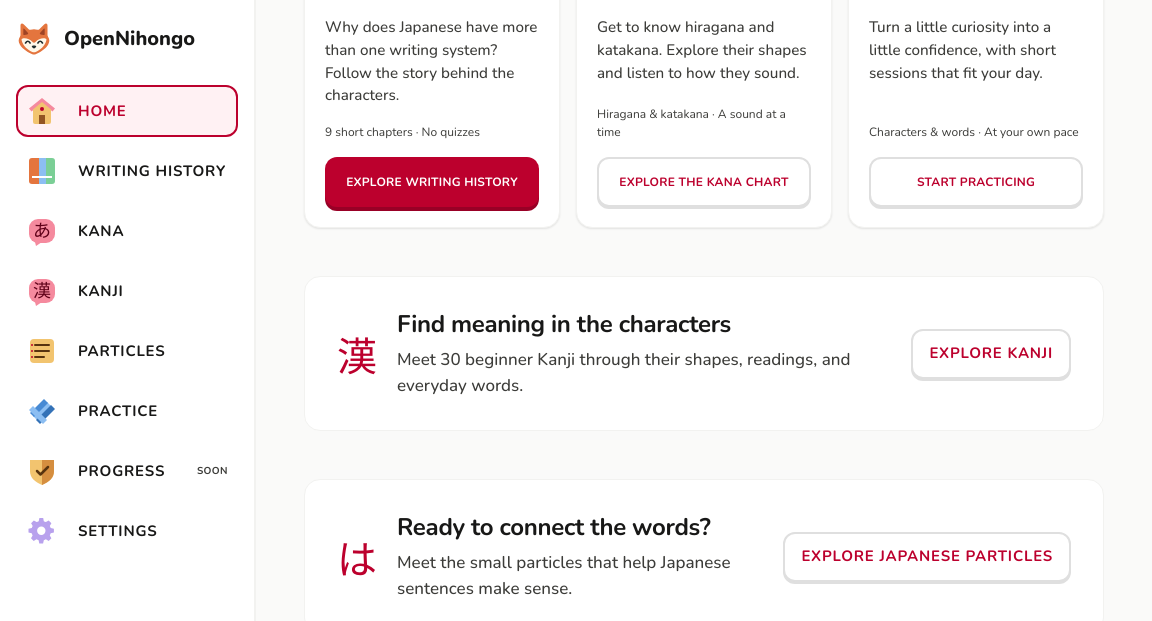
Test: discovers Kanji theory from Home and keeps the section active on character pages
(page scrolled)
What coordinates should you click on to do the following:
click the link "Explore Kanji"
I would click on:
 (991, 354)
Its box is [911,329,1071,379].
(page scrolled)
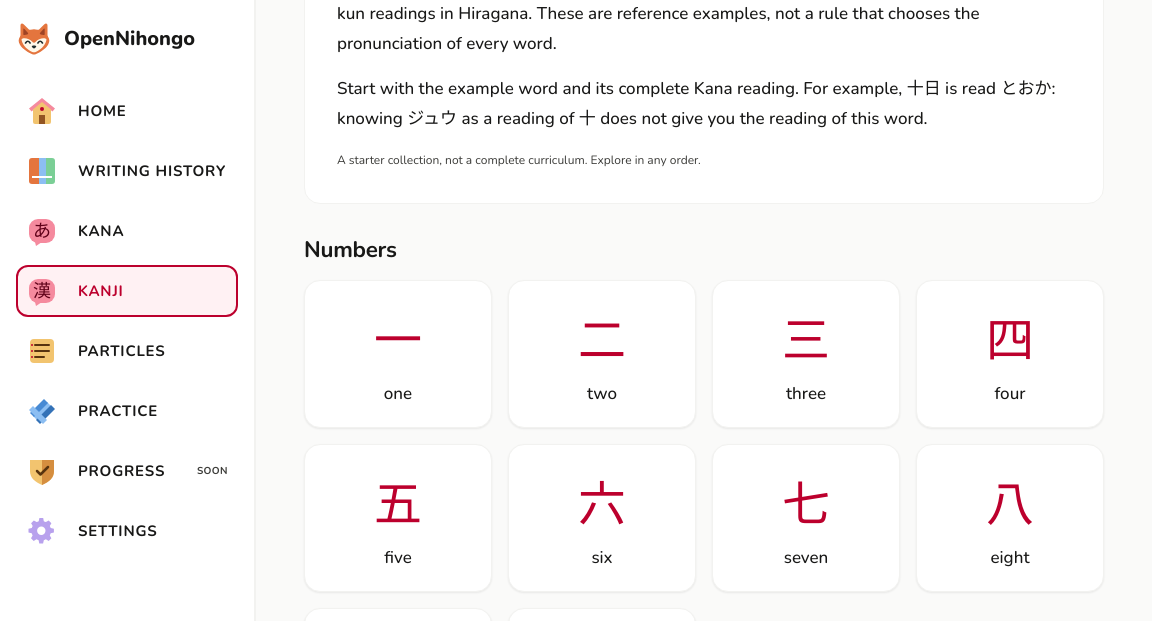
What coordinates should you click on to do the following:
click the link with aria-label "一 · one"
I would click on:
 (398, 354)
Its box is [304,280,492,428].
(page scrolled)
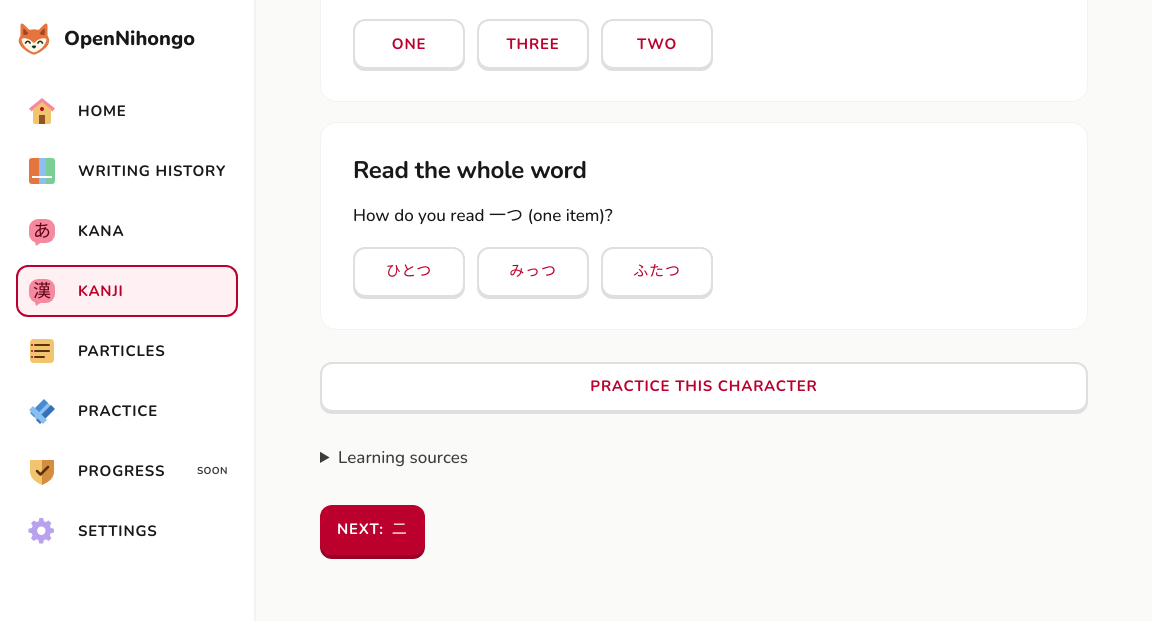
Result: the link "漢 Kanji" is marked as current at [16,265,238,317]
What coordinates should you click on to do the following:
click the link "Next: 二"
I would click on:
 (372, 530)
Its box is [320,505,425,555].
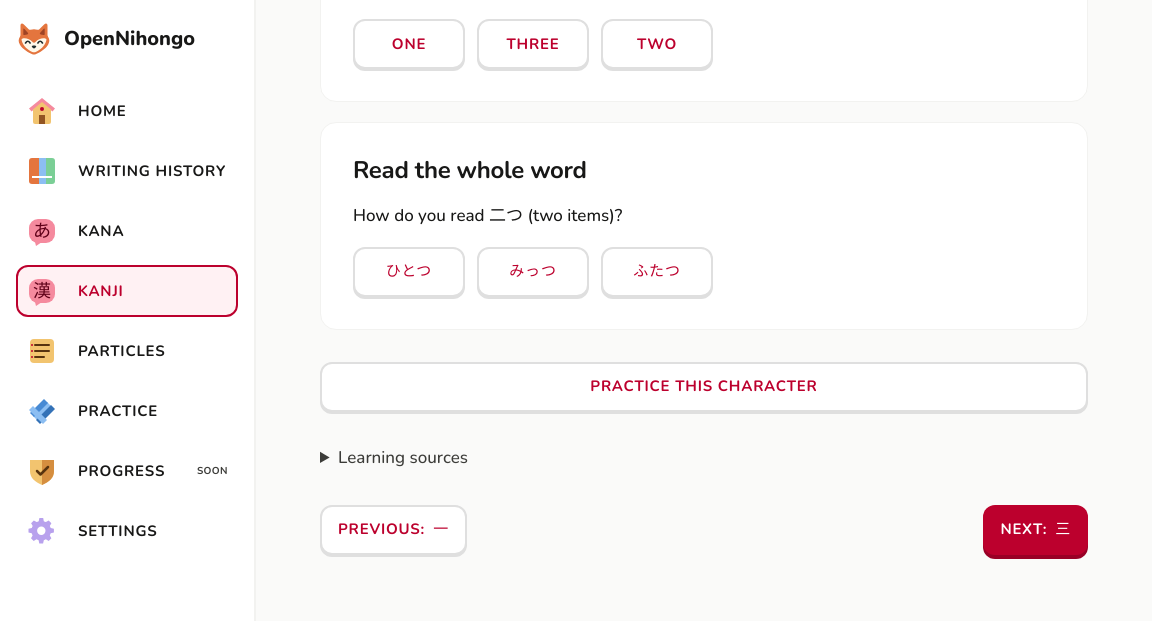
What coordinates should you click on to do the following:
click the link "Previous: 一"
I would click on:
 (394, 530)
Its box is [320,505,467,555].
(page scrolled)
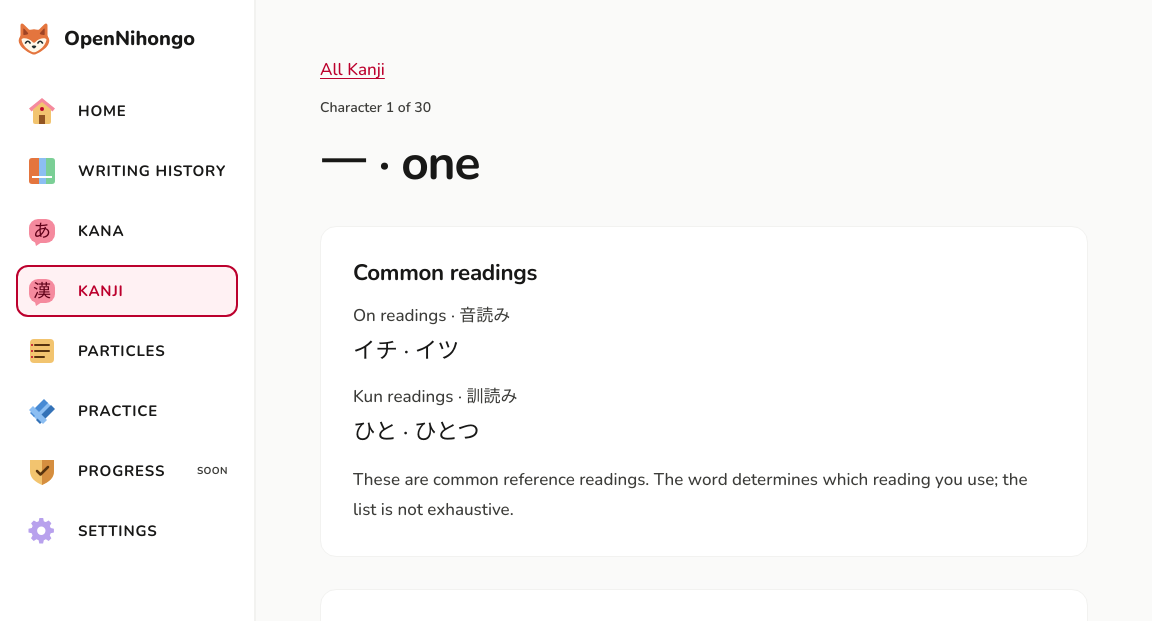
Result: the heading "一 · one" is shown at [320,130,479,196]
What coordinates should you click on to do the following:
click the link "All Kanji"
I would click on:
 (352, 70)
Its box is [320,58,385,81].
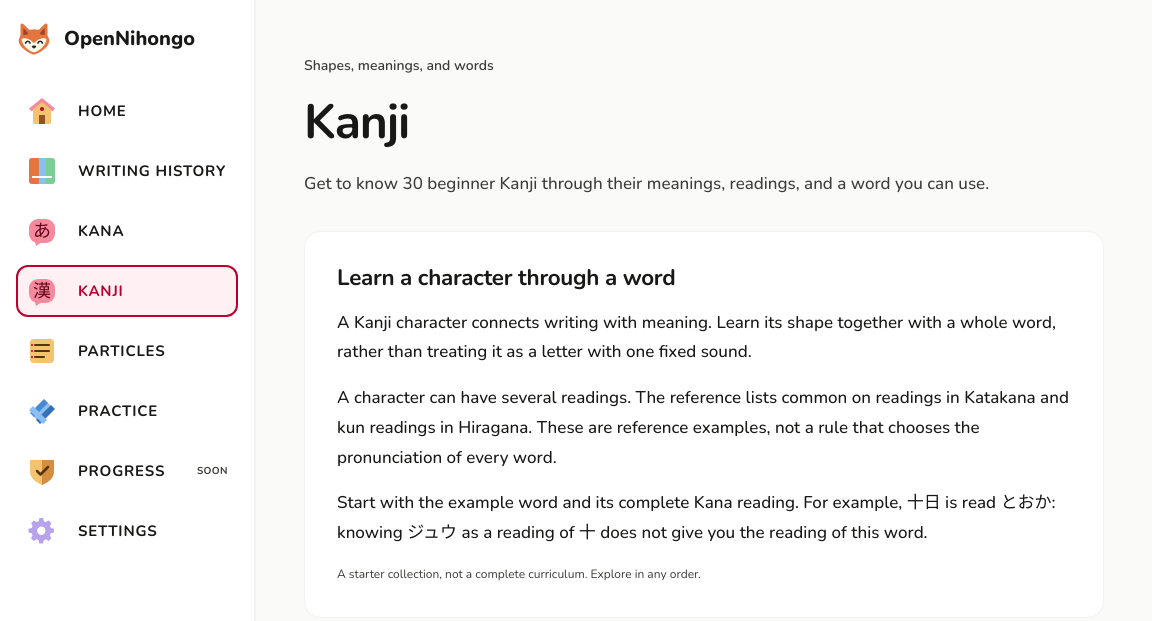
Result: the heading "Kanji" is shown at [304,88,409,154]
